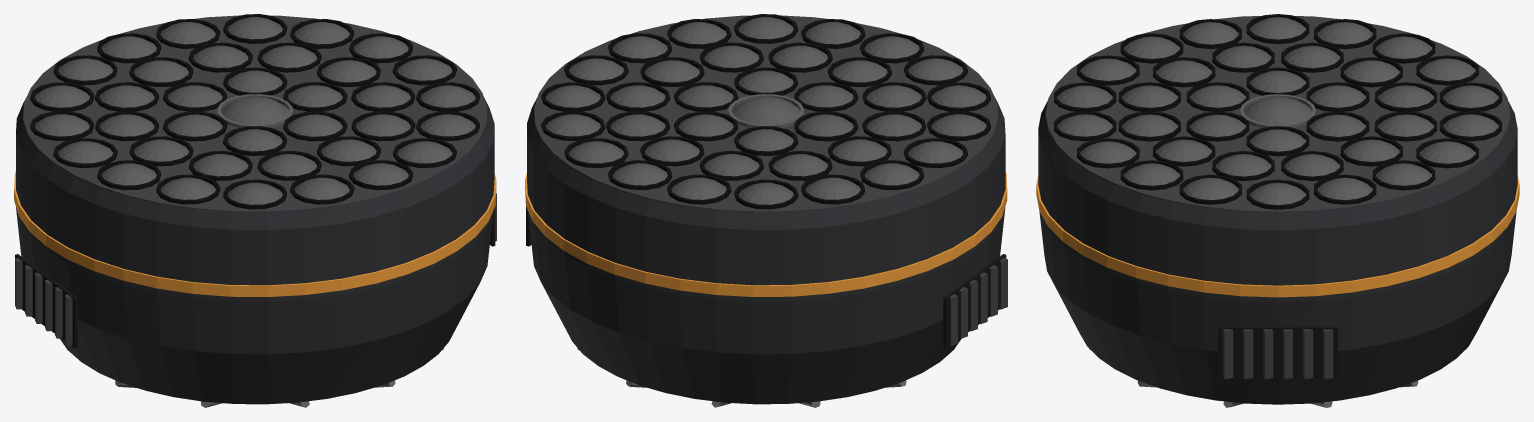
Rendered from csc_lumora_w19_head.obj.
3 views of the same model, side by side, from view 1: azimuth 30°, elevation 25°; view 2: azimuth 150°, elevation 25°; view 3: azimuth 270°, elevation 25° (orthographic).
Parts seen in each view (by area): view 1: head_csc_2f3033, head_csc_59595b, head_csc_0d0d0d, head_csc_3f4043, head_csc_f9a238, head_csc_161618, head_csc_616365; view 2: head_csc_2f3033, head_csc_59595b, head_csc_0d0d0d, head_csc_3f4043, head_csc_f9a238, head_csc_161618, head_csc_616365; view 3: head_csc_2f3033, head_csc_59595b, head_csc_0d0d0d, head_csc_3f4043, head_csc_f9a238, head_csc_161618, head_csc_616365.
Part boxes in pixels (x1=…): head_csc_2f3033: x1=16, y1=97, x2=494, y2=404; head_csc_59595b: x1=34, y1=17, x2=475, y2=204; head_csc_0d0d0d: x1=30, y1=14, x2=479, y2=209; head_csc_3f4043: x1=15, y1=15, x2=496, y2=345; head_csc_f9a238: x1=14, y1=171, x2=496, y2=296; head_csc_161618: x1=15, y1=207, x2=495, y2=348; head_csc_616365: x1=115, y1=94, x2=443, y2=407; head_csc_2f3033: x1=527, y1=97, x2=1005, y2=404; head_csc_59595b: x1=545, y1=17, x2=986, y2=204; head_csc_0d0d0d: x1=541, y1=14, x2=990, y2=209; head_csc_3f4043: x1=534, y1=15, x2=1007, y2=345; head_csc_f9a238: x1=525, y1=172, x2=1007, y2=296; head_csc_161618: x1=526, y1=206, x2=1006, y2=348; head_csc_616365: x1=577, y1=94, x2=906, y2=407; head_csc_2f3033: x1=1038, y1=101, x2=1517, y2=404; head_csc_59595b: x1=1057, y1=17, x2=1498, y2=205; head_csc_0d0d0d: x1=1054, y1=14, x2=1501, y2=209; head_csc_3f4043: x1=1045, y1=16, x2=1510, y2=379; head_csc_f9a238: x1=1036, y1=175, x2=1519, y2=297; head_csc_161618: x1=1218, y1=326, x2=1337, y2=377; head_csc_616365: x1=1089, y1=94, x2=1466, y2=407.
Size of the model in its own units: 0.8572 by 0.4999 by 0.8336.
